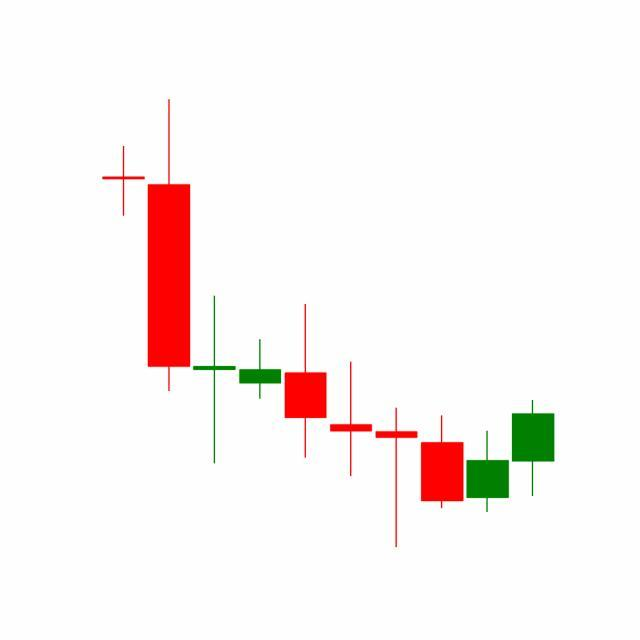Hikkake Pattern: (283, 301, 512, 548)
